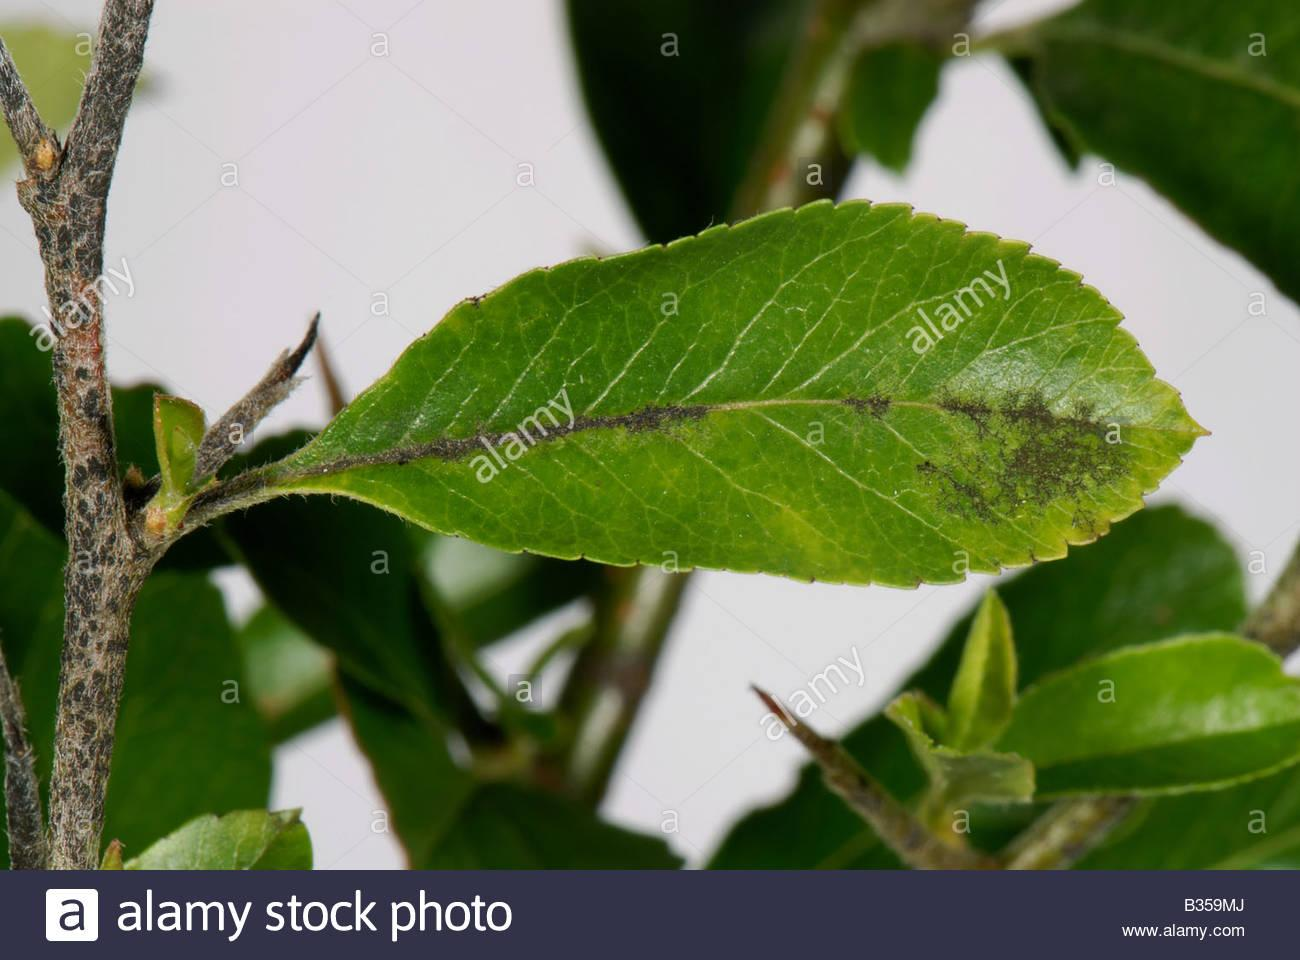Apple Scab Leaf: (244, 178, 1210, 626)
